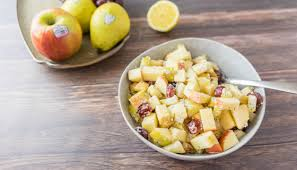apple: (31, 11, 82, 58), (90, 2, 129, 55), (60, 1, 97, 32)
